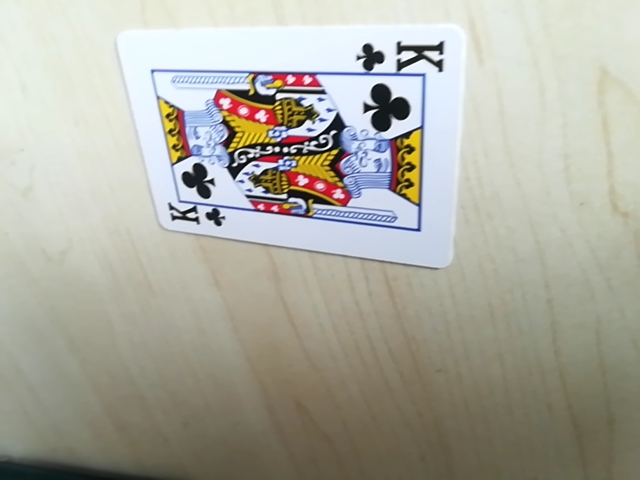mh k: (357, 33, 452, 77), (160, 200, 229, 231)
